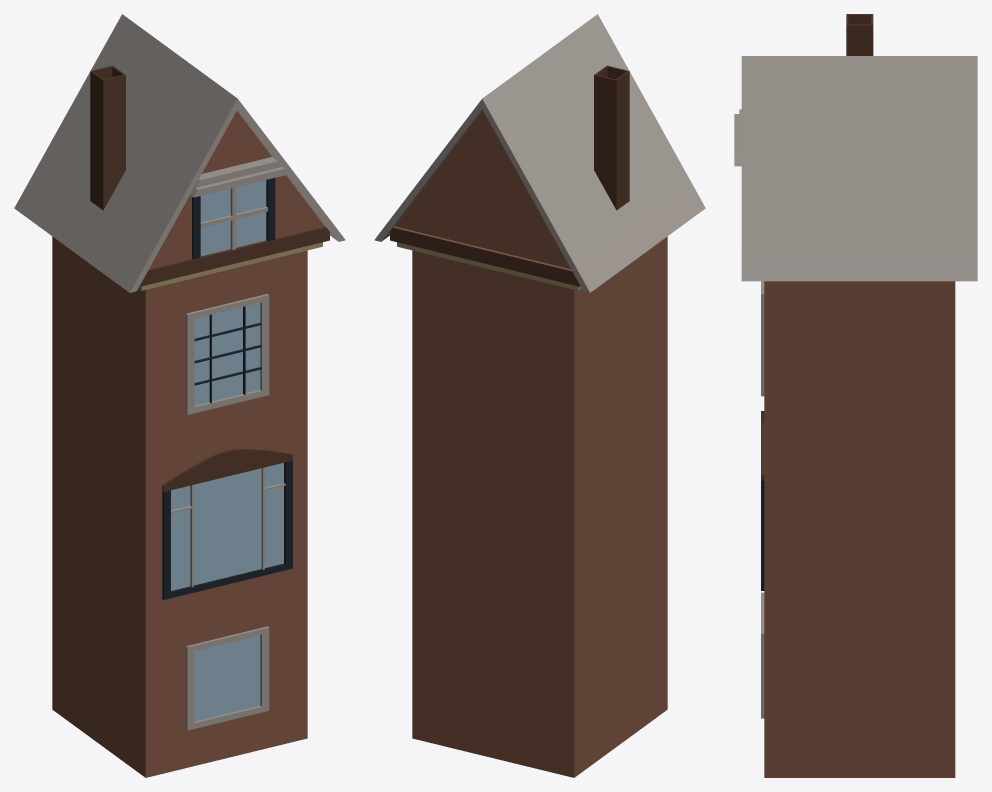
The model's file is House1Level2.fbx.
The picture shows the model from 3 angles, left to right: view 1: azimuth 30°, elevation 25°; view 2: azimuth 150°, elevation 25°; view 3: azimuth 270°, elevation 25°; orthographic projection. The views are drawn at different scales.
Visible parts, largest first — view 1: House1Lvl1.002; view 2: House1Lvl1.002; view 3: House1Lvl1.002.
Boxes of the visible parts, left/top/right/bottom form: House1Lvl1.002: left=14, top=14, right=345, bottom=777; House1Lvl1.002: left=374, top=14, right=705, bottom=777; House1Lvl1.002: left=734, top=14, right=977, bottom=777.
Size of the model in its own units: 59.34 by 175 by 56.77.
